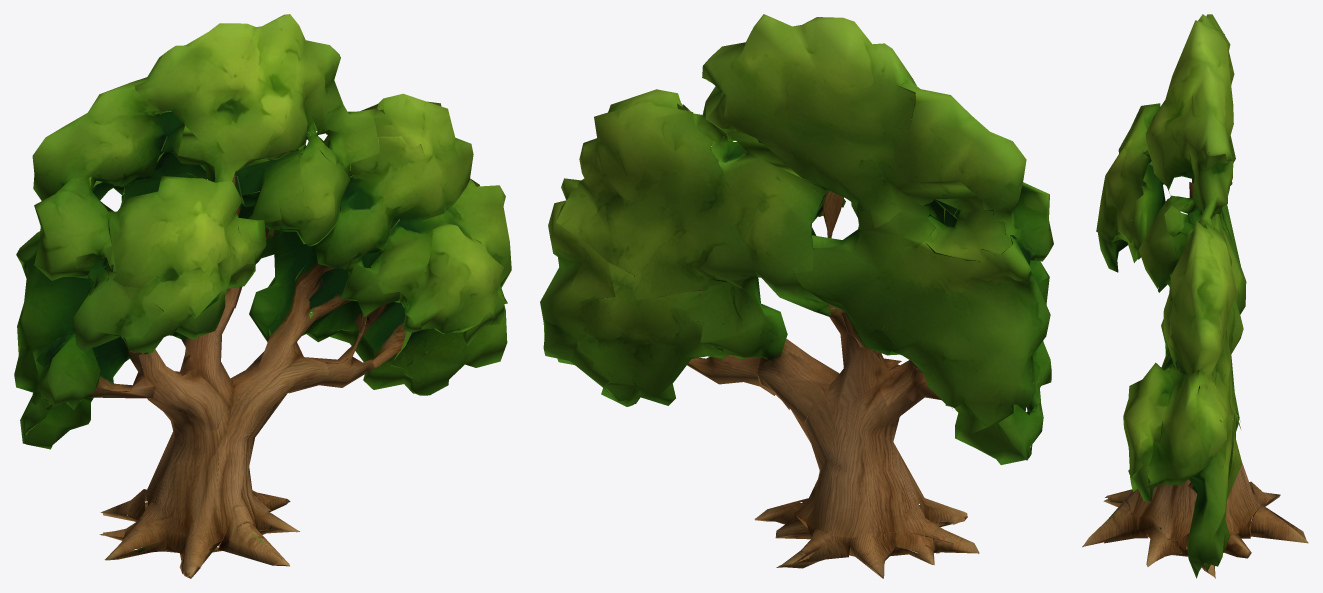
3 views of the same model, side by side, from view 1: azimuth 30°, elevation 25°; view 2: azimuth 150°, elevation 25°; view 3: azimuth 270°, elevation 25° (orthographic). The views are drawn at different scales.
Parts seen in each view (by area): view 1: quad; view 2: quad; view 3: quad.
Part boxes in pixels (box(x1,y1,x2,y2)): quad: box(14, 14, 511, 578); quad: box(540, 14, 1053, 578); quad: box(1082, 14, 1308, 578).
Bounding box in the file's own units: 800 × 795 × 314.
Materials: 1 (1 with a texture image).
